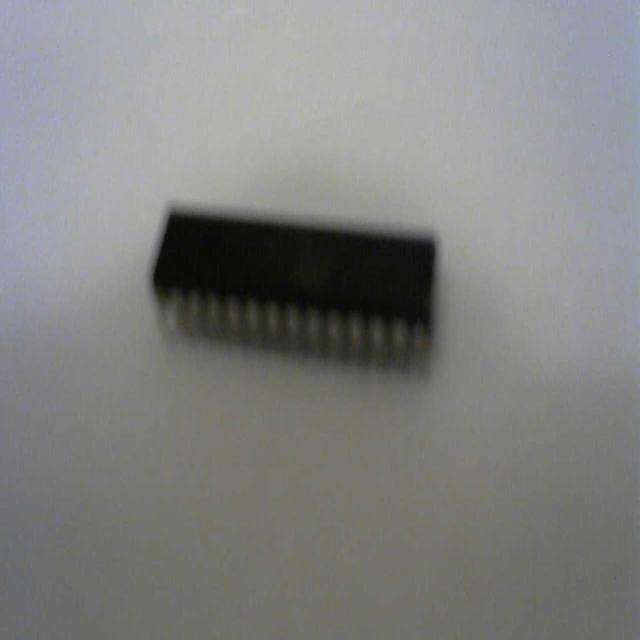atmega: (150, 197, 440, 378)
